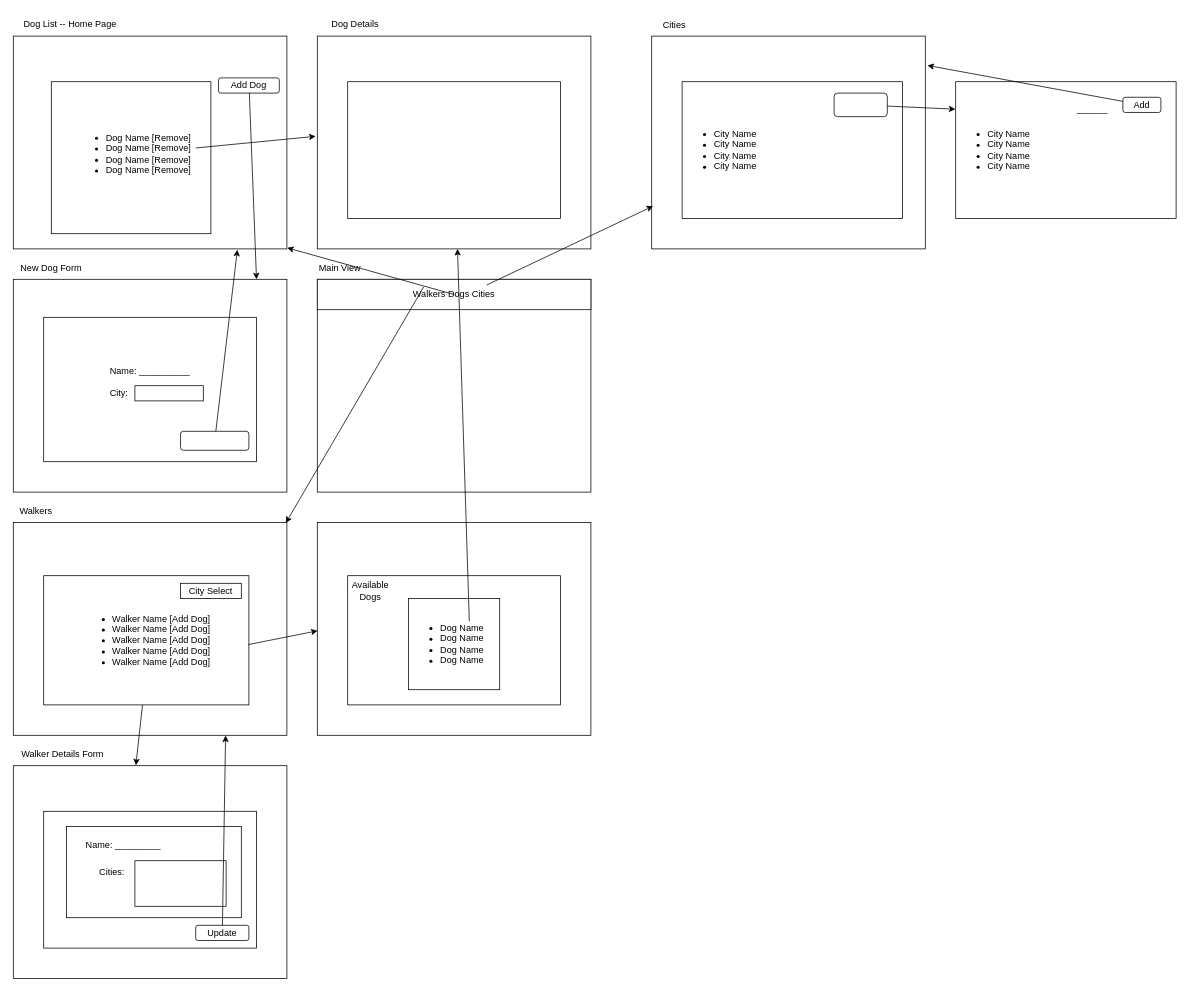
Image size: 1189x992. Some labels were removed from this diagram. Each missing label, with the box of its shape:
Add a City: (833, 92, 887, 117)
All Cities with Checkboxes: (134, 860, 226, 906)
Dog Name Dog City Dog Walker (if assigned): (347, 81, 560, 218)
Select: (134, 385, 203, 401)
Submit: (180, 431, 249, 450)
